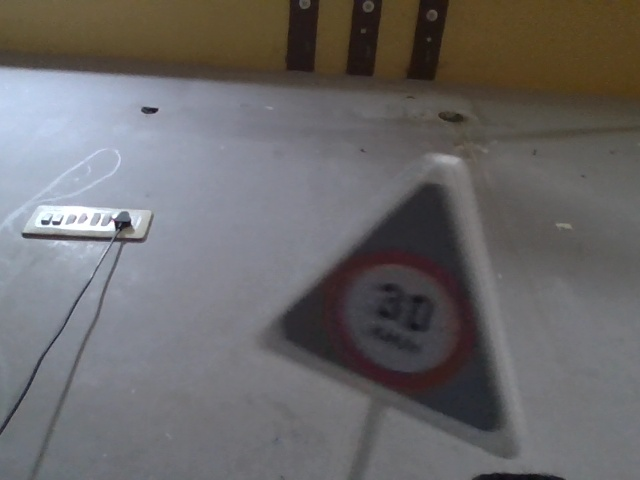speedlimit: (207, 174, 529, 447)
